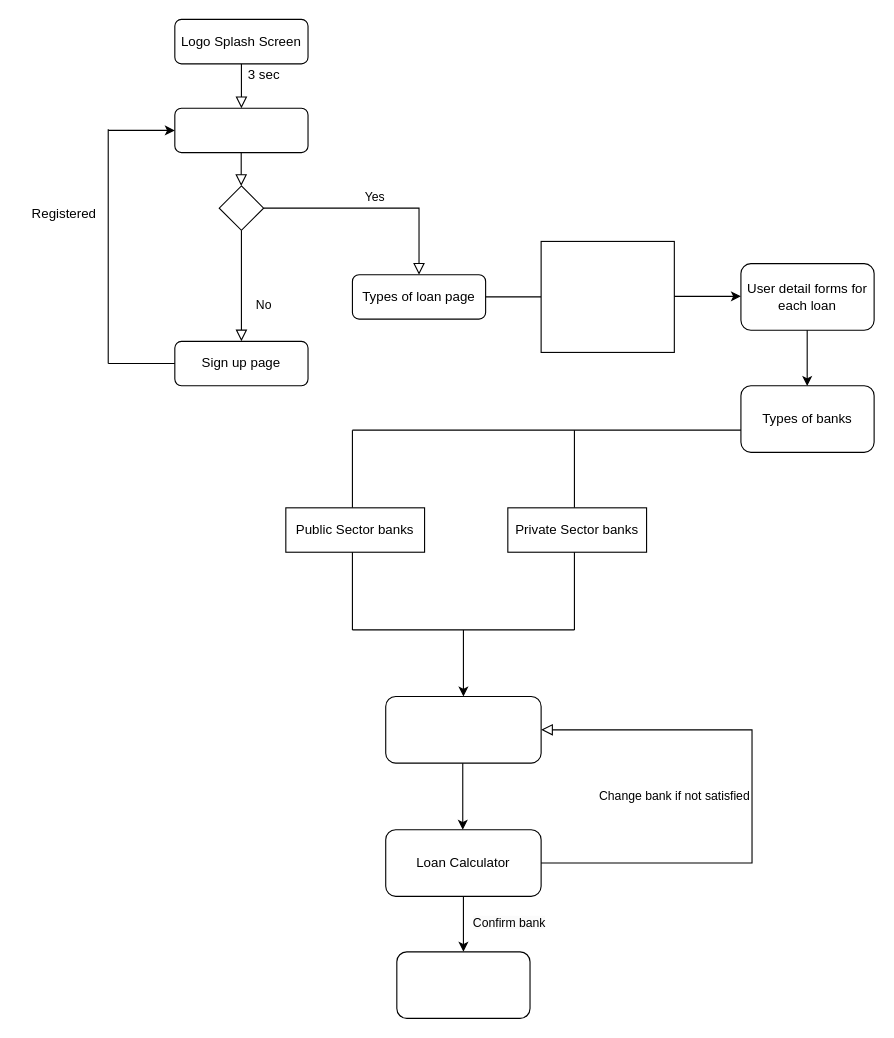
The diagram is 894 pixels wide and 1038 high, and some of its shapes have lost their labels. Each missing label, with the box of its shape:
Personal loan Business loan Education loan House loan Vehicle loan Gold loan: (540, 240, 674, 352)
Processing loan: (396, 951, 530, 1018)
Rate of interests based on different banks: (385, 695, 541, 763)
Sign in page: (174, 107, 308, 153)
